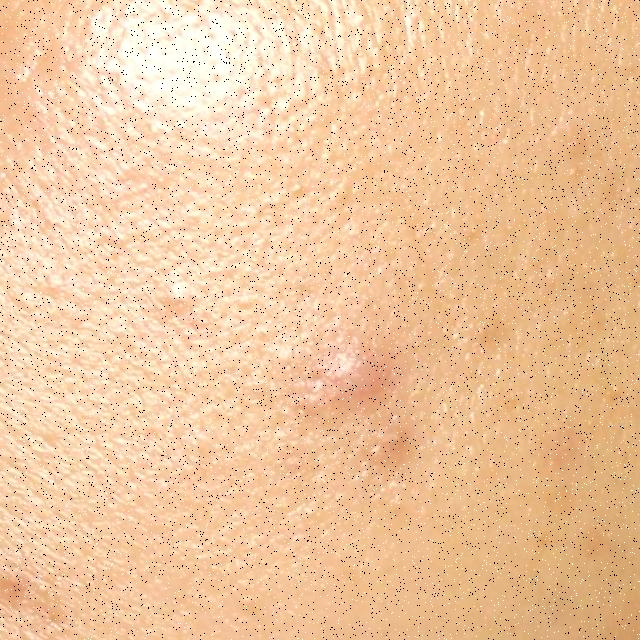nodules: (294, 334, 404, 422)
